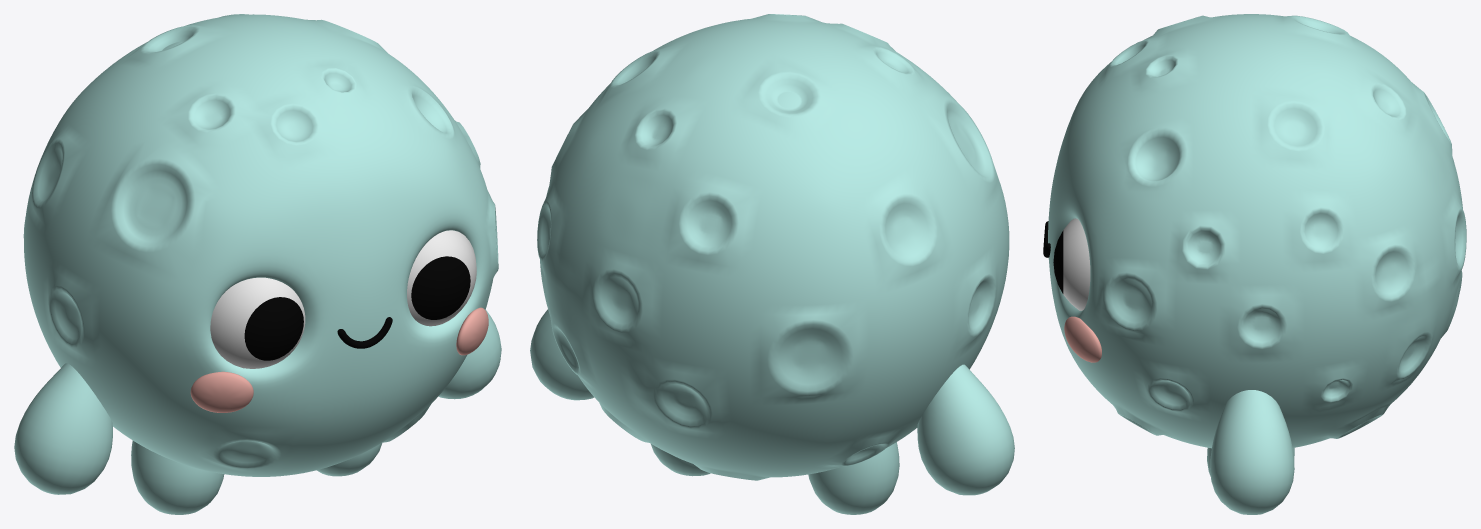
The model's file is Moon Character.fbx.
The picture shows the model from 3 angles, left to right: view 1: azimuth 30°, elevation 25°; view 2: azimuth 150°, elevation 25°; view 3: azimuth 270°, elevation 25°; orthographic projection. The views are drawn at different scales.
Parts seen in each view (by area): view 1: Moon, Eyes; view 2: Moon; view 3: Moon, Eyes.
Part boxes in pixels (x1,y1,x2,y2): Moon: [14, 14, 501, 514]; Eyes: [210, 230, 476, 368]; Moon: [530, 14, 1014, 514]; Moon: [1043, 14, 1466, 514]; Eyes: [1053, 218, 1090, 310].
Bounding box in the file's own units: 867 × 789 × 703.
